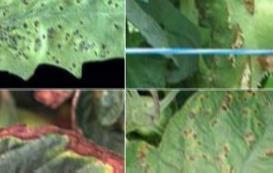Tomato leaf bacterial spot: (137, 96, 273, 173), (0, 0, 125, 80), (0, 101, 121, 173)
